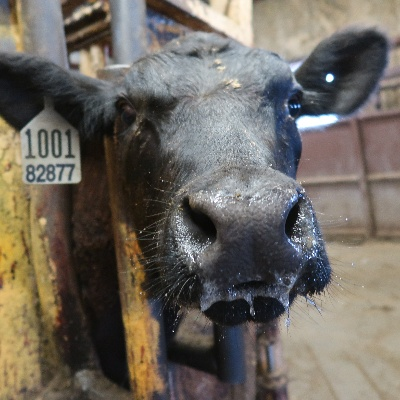fidget_spinner: (166, 178, 325, 304)
